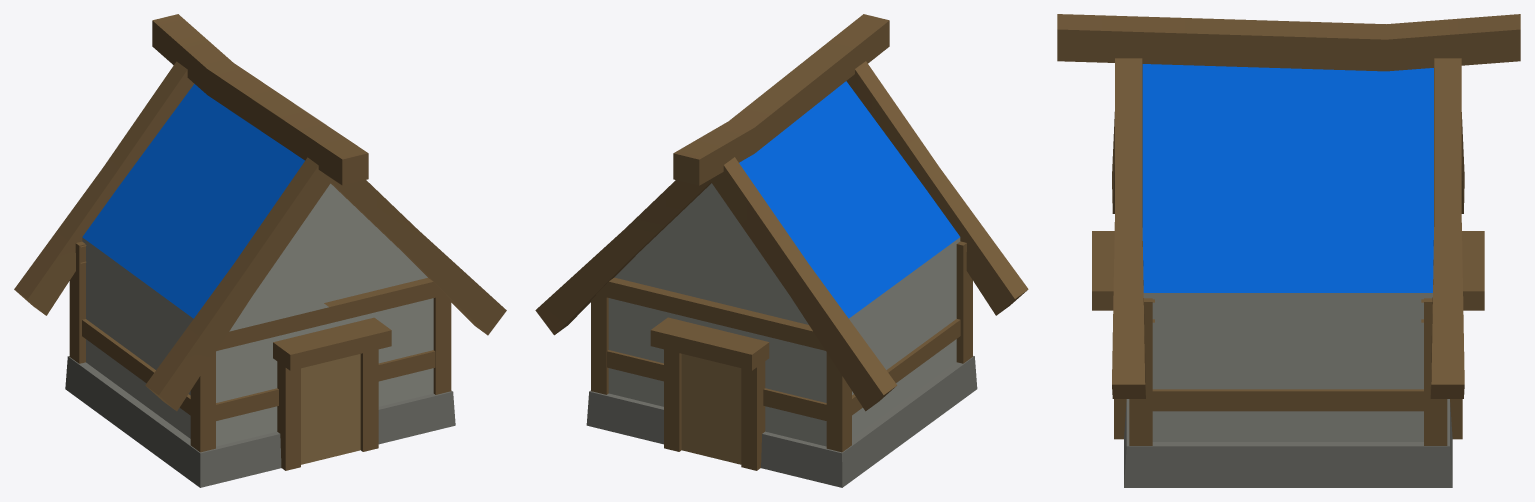
The model's file is Enterable_House.glb.
The picture shows the model from 3 angles, left to right: view 1: azimuth 30°, elevation 25°; view 2: azimuth 150°, elevation 25°; view 3: azimuth 270°, elevation 25°; orthographic projection. The views are drawn at different scales.
Visible parts, largest first — view 1: Enterable_House_SELECT_ARTIFACT_FACES; view 2: Enterable_House_SELECT_ARTIFACT_FACES; view 3: Enterable_House_SELECT_ARTIFACT_FACES.
Part boxes in pixels (x1=…): Enterable_House_SELECT_ARTIFACT_FACES: x1=14, y1=14, x2=506, y2=487; Enterable_House_SELECT_ARTIFACT_FACES: x1=535, y1=14, x2=1028, y2=487; Enterable_House_SELECT_ARTIFACT_FACES: x1=1057, y1=14, x2=1520, y2=487.
Bounding box in the file's own units: 0.8693 × 0.7656 × 0.8226.
